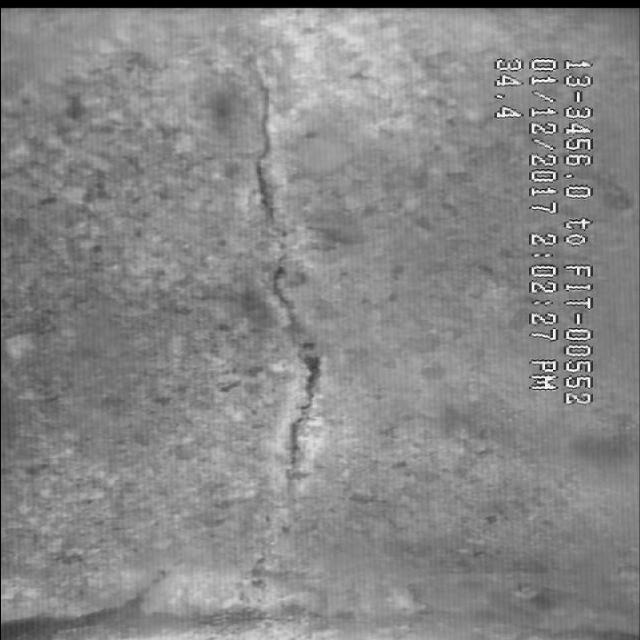Crack: (215, 73, 358, 513)
